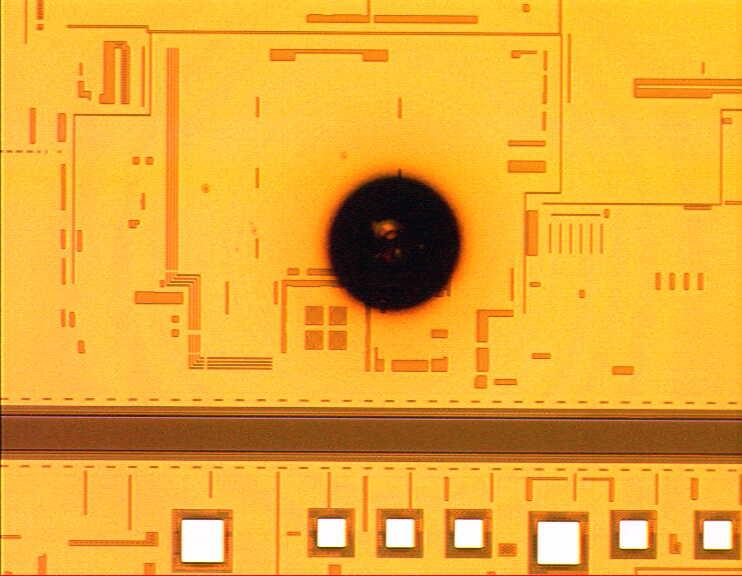PIQ PARTICLE: (310, 160, 478, 328)
